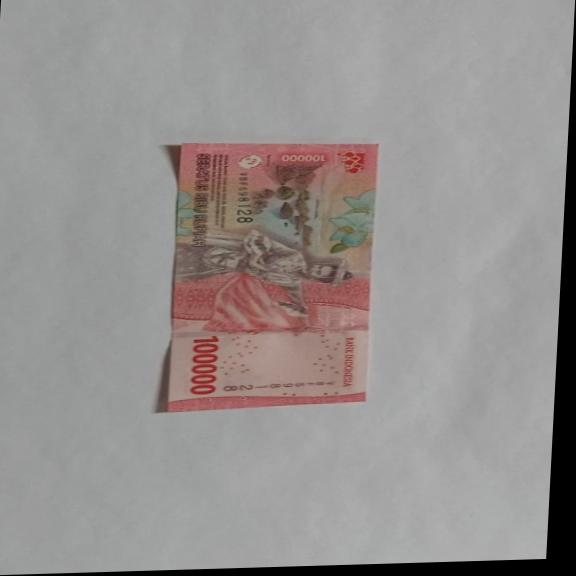Kertas: (158, 137, 382, 413), (187, 335, 221, 396)
